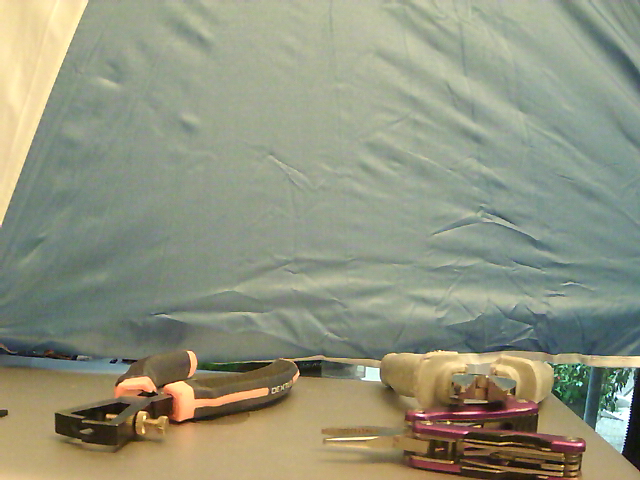pliers: (312, 403, 593, 480), (375, 350, 562, 407)
